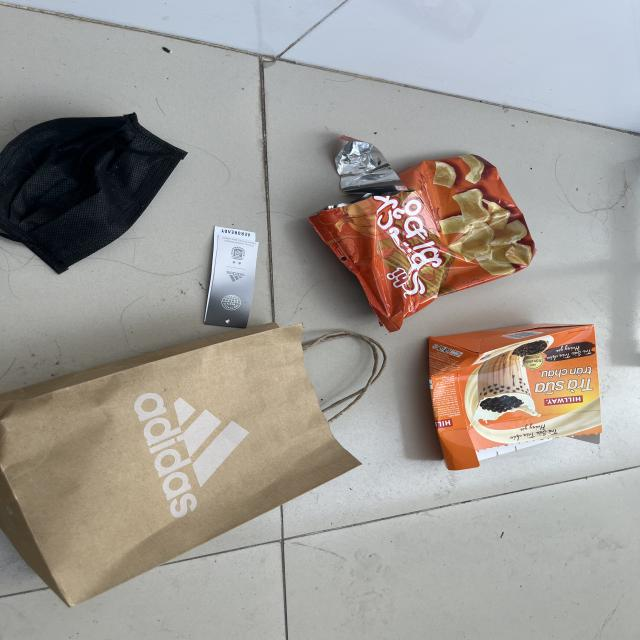bag: (0, 322, 388, 607)
cardboard box: (427, 323, 603, 471)
mask: (0, 112, 188, 274)
paper: (204, 226, 259, 330)
snack package: (309, 134, 537, 333)
